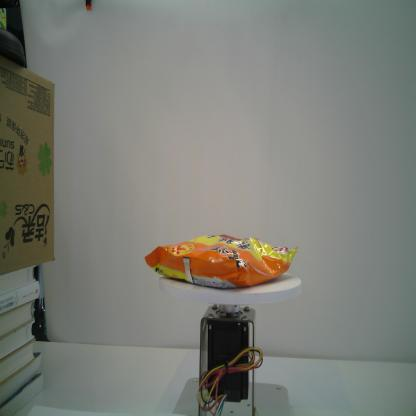Instant Noodles: (144, 233, 299, 290)
